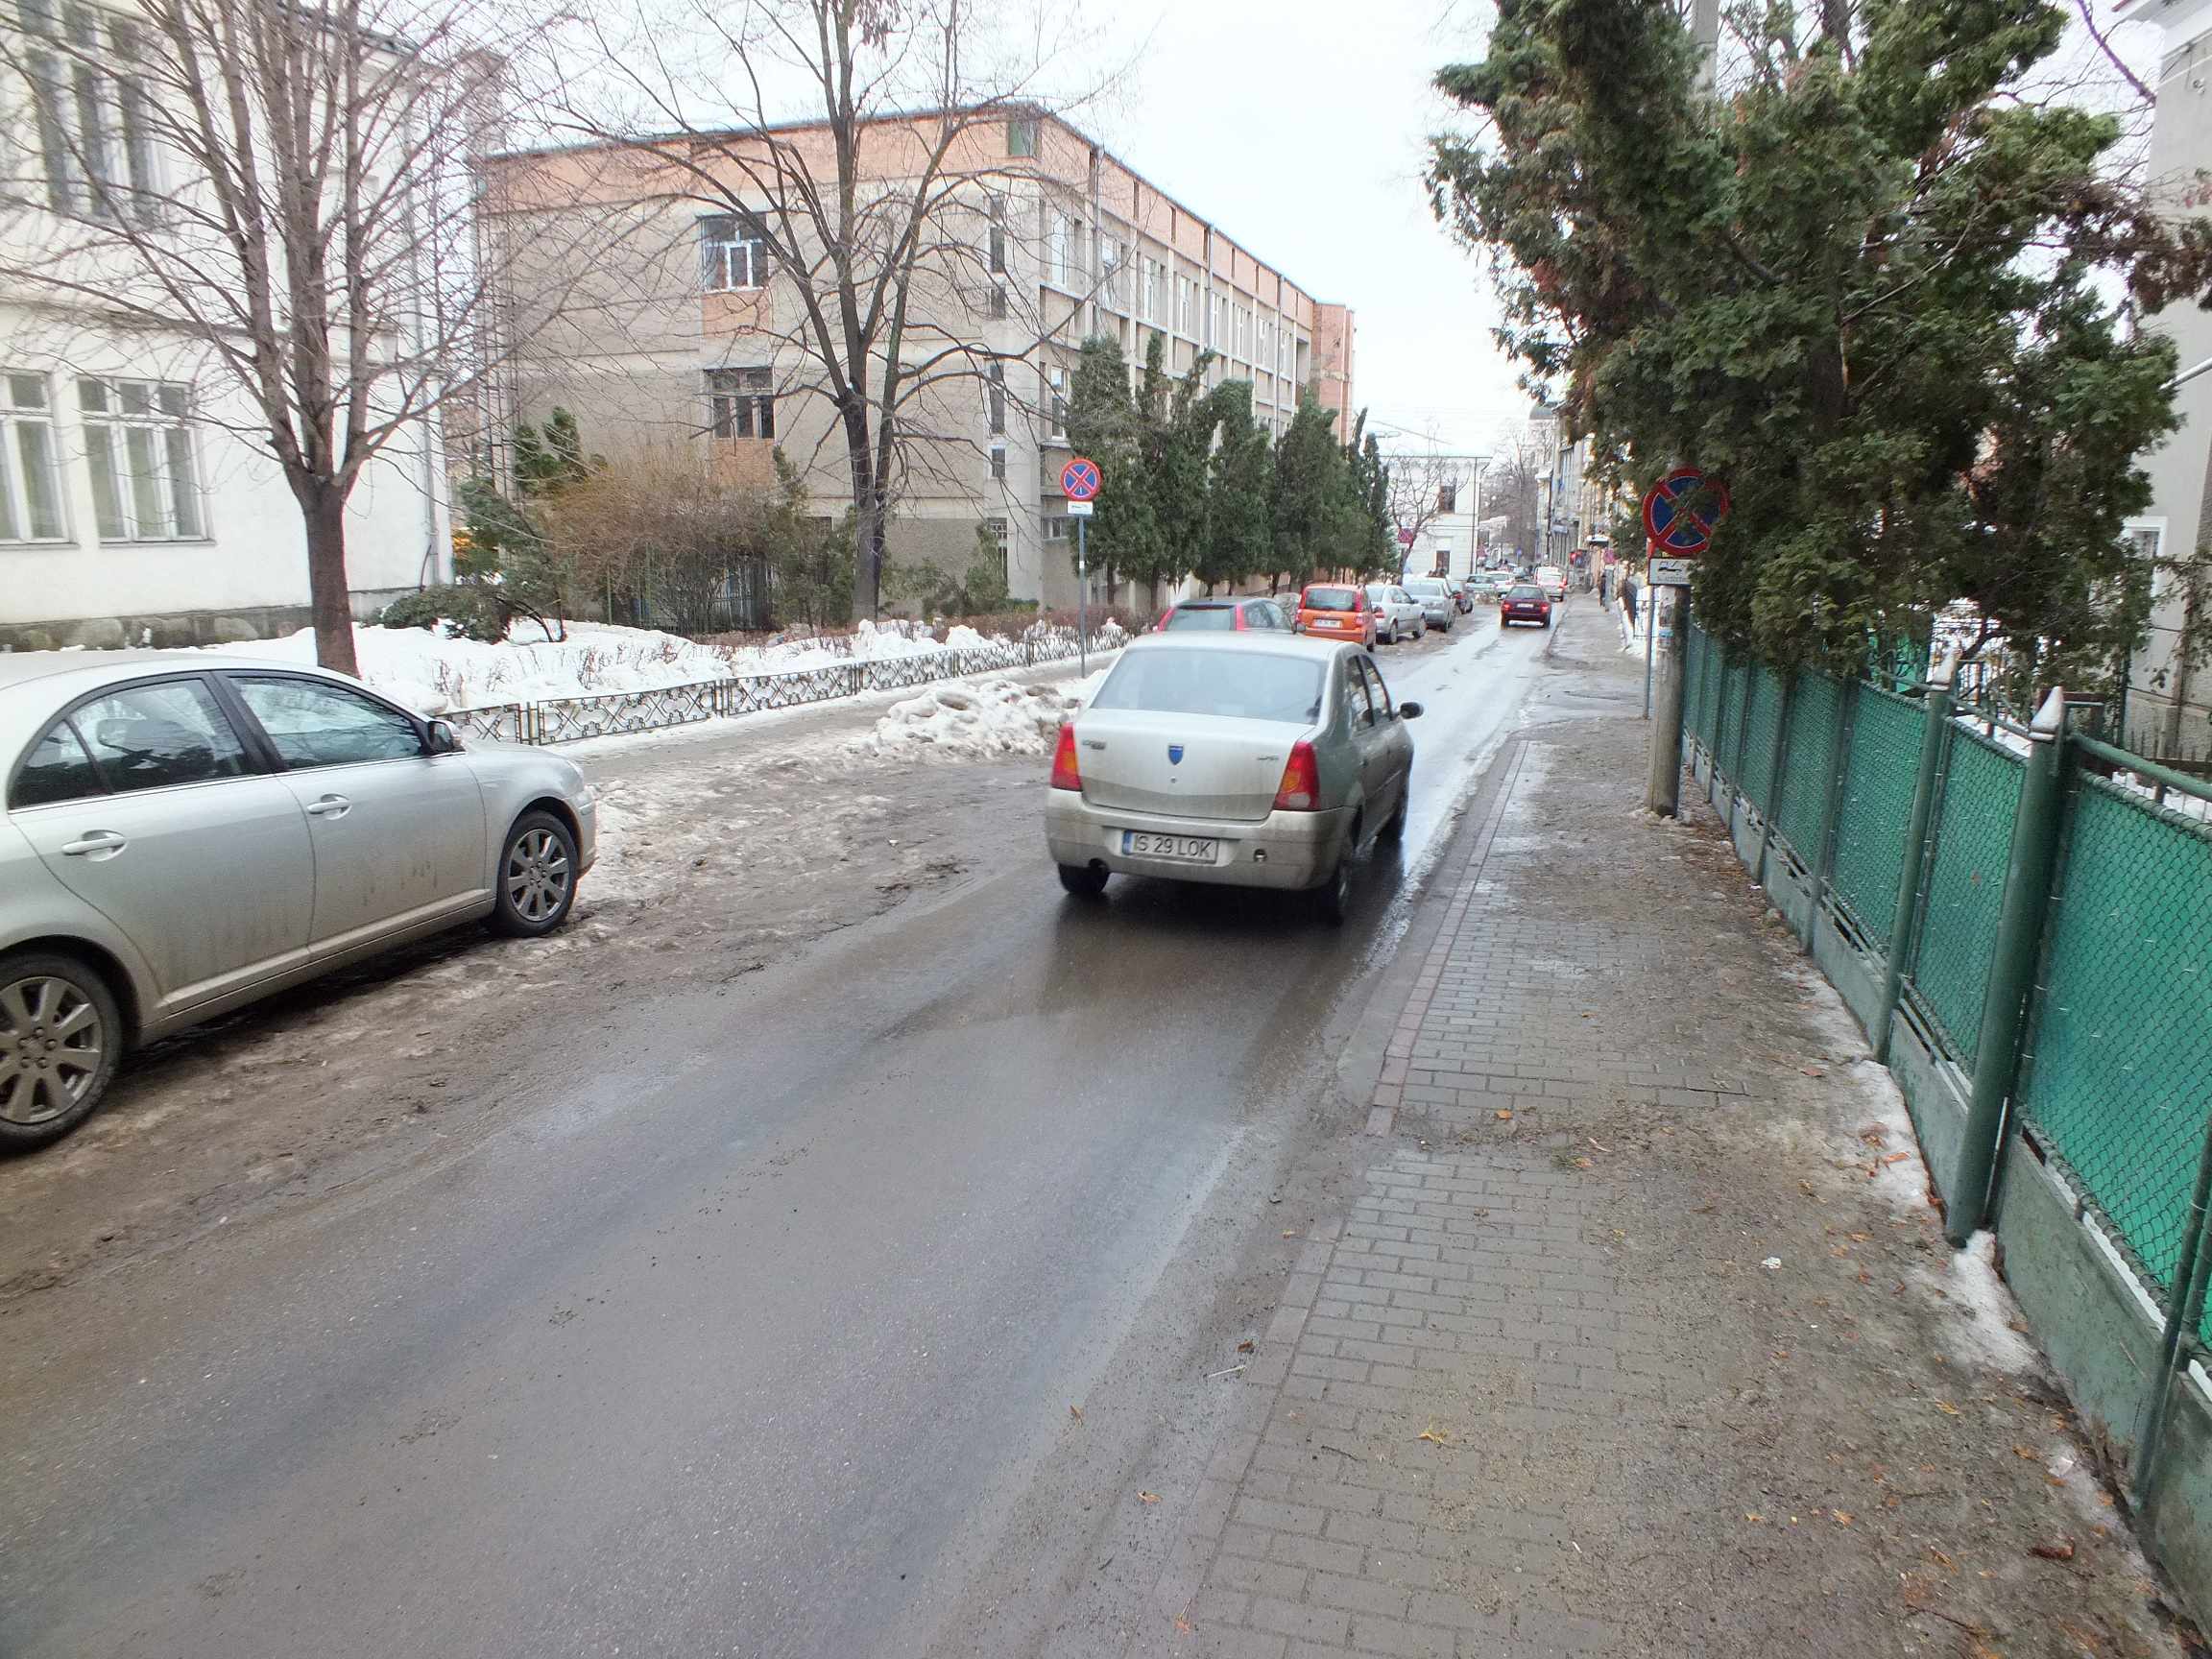IS29LOK: (1123, 832, 1212, 860)
